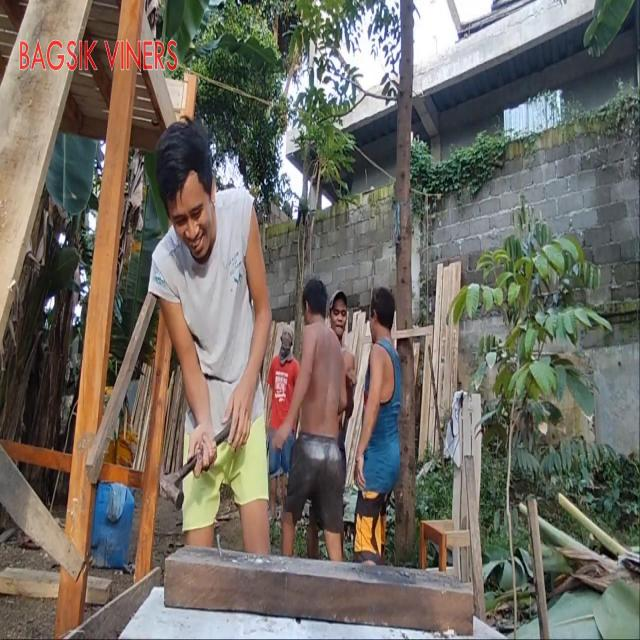hammer: (160, 410, 236, 511)
